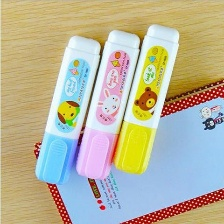correction_fluid: (73, 28, 146, 184), (33, 32, 105, 187), (111, 22, 182, 179)
